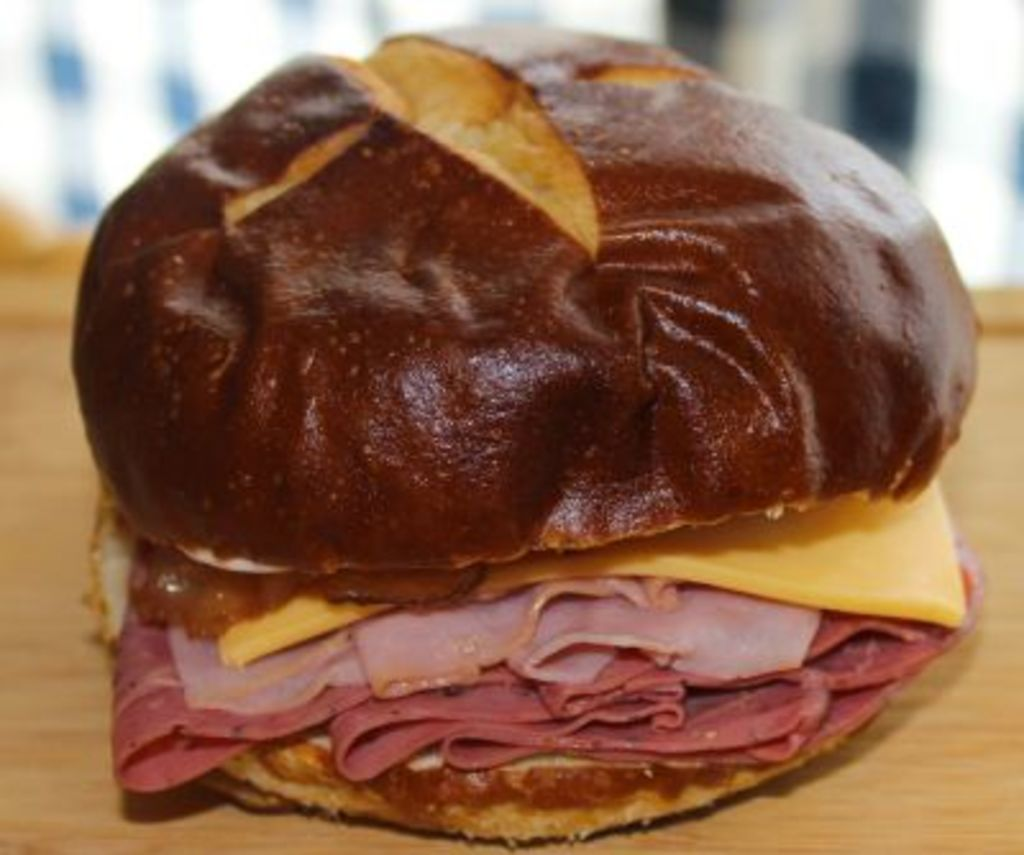Hamburger: (64, 17, 988, 849)
